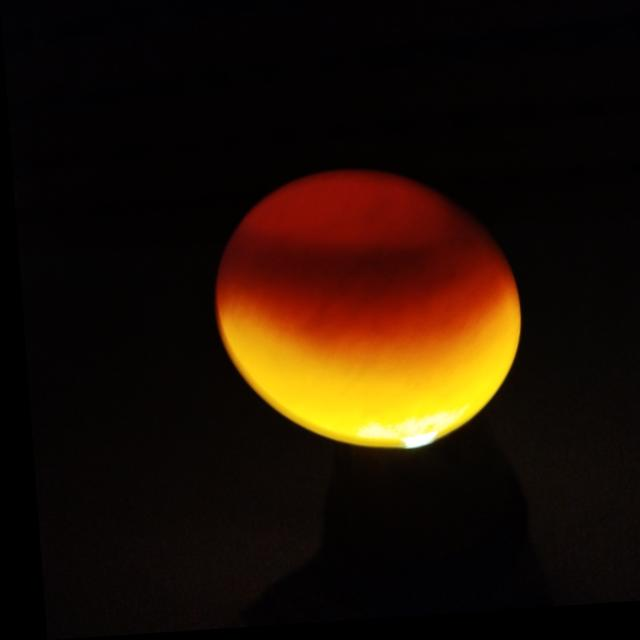Area Infectada: (218, 205, 498, 300)
